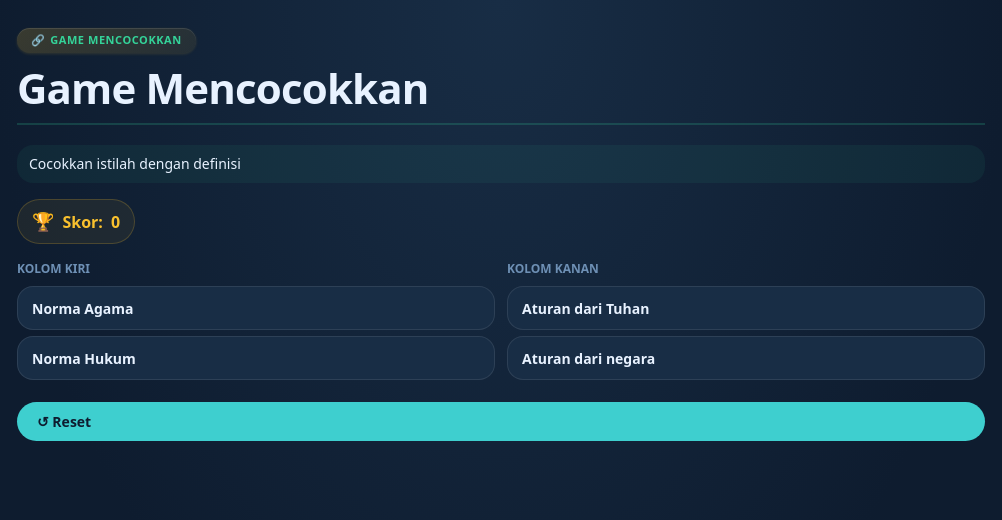
HIGH-PRIORITY-RENDERERS-01 — Scope B: Matching Game › 6. matching-game click pair updates score/feedback
The image size is (1002, 520).
// Select left item
Click the button with test id "left-l1": [83, 308] box [17, 286, 495, 330]
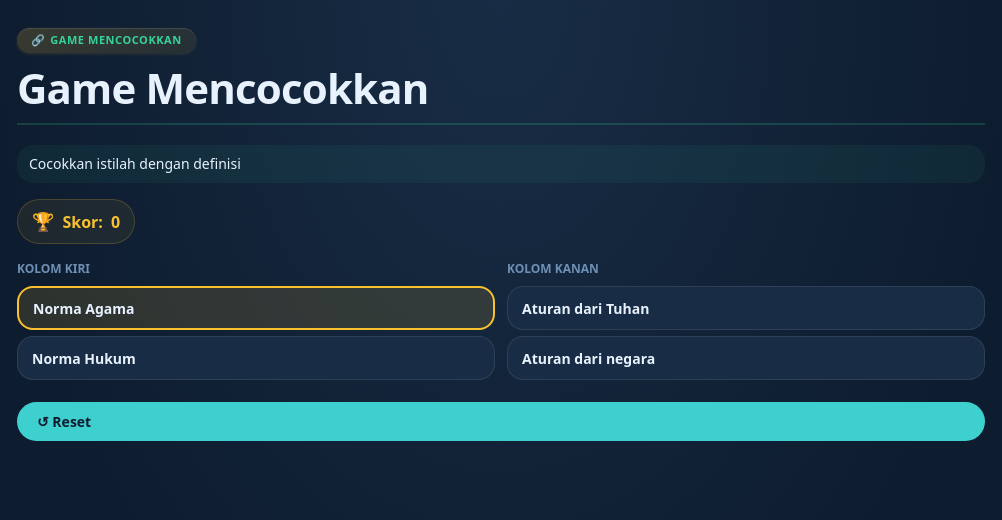
// Click correct right item
Click the button with test id "right-r1": [586, 308] box [507, 286, 985, 330]
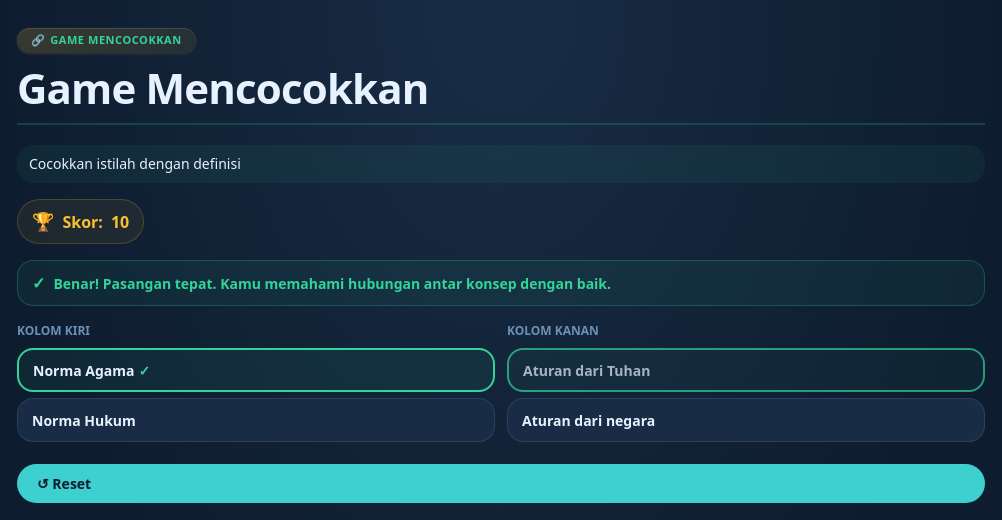
Check: the text with test id "matching-score" reads "10", box [111, 211, 129, 233]
Check: the element with test id "matching-feedback" is shown, box [17, 260, 985, 306]
Check: the text "Benar" is shown, box [53, 274, 611, 293]
